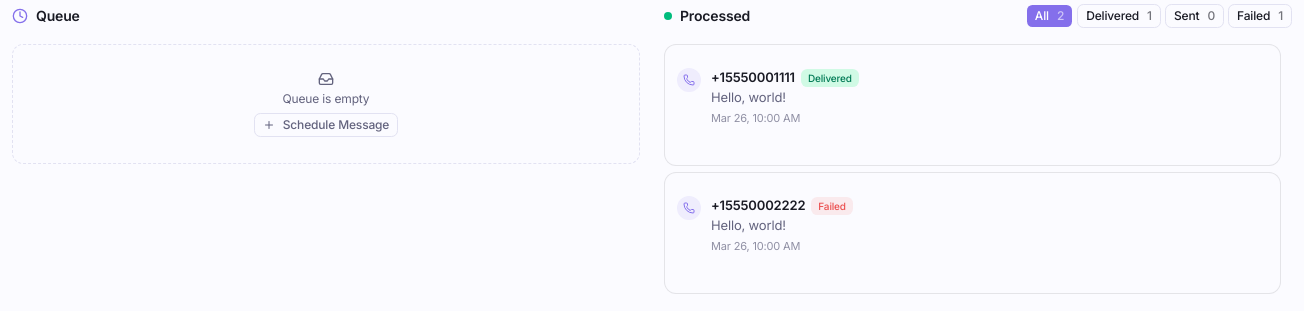
MessageList › filter chips › filters to show only delivered messages
Expected: the text "+15550001111" is shown, [711,71,795,84]
Click the button "Delivered 1" at [1119, 16], box [1077,4,1161,28]
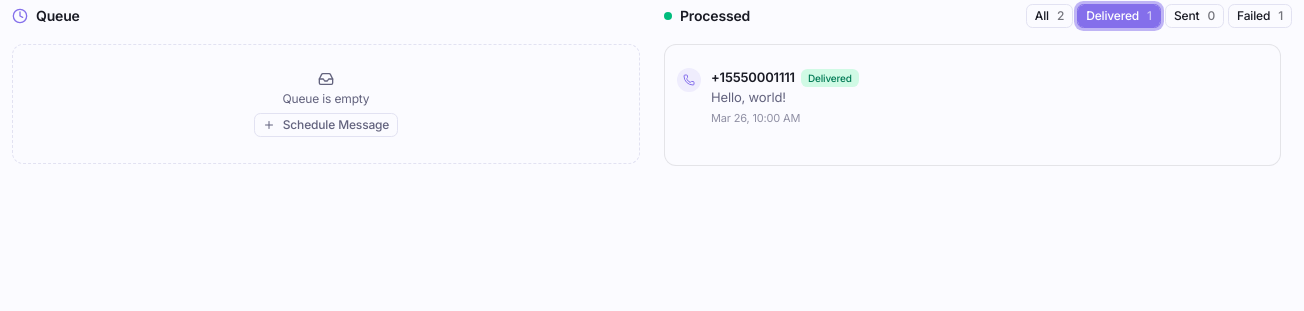
Expected: the text "+15550001111" is shown, [711,71,795,84]
Result: the text "+15550002222" is gone
